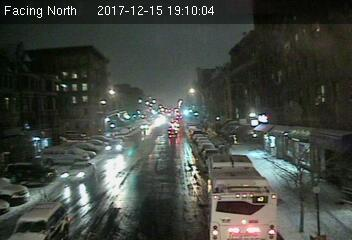bus: (206, 155, 278, 240)
car: (61, 162, 94, 179), (103, 140, 128, 153)
